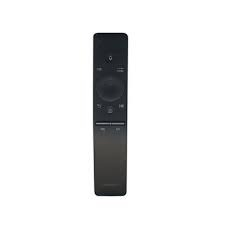remote control: (87, 31, 133, 198)
